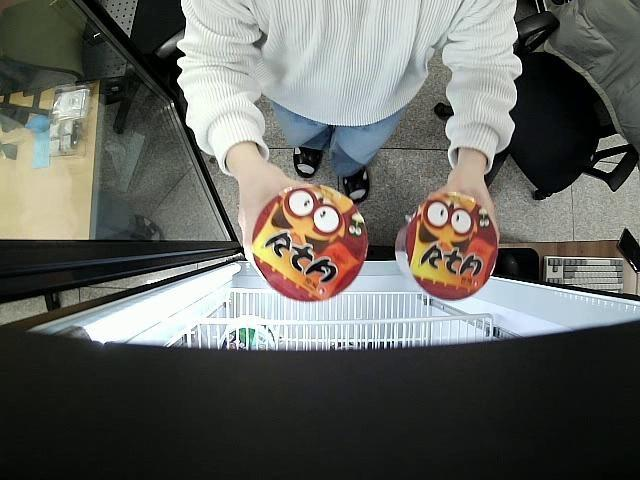05_nuguri_L: (248, 182, 368, 302), (394, 192, 498, 301)
